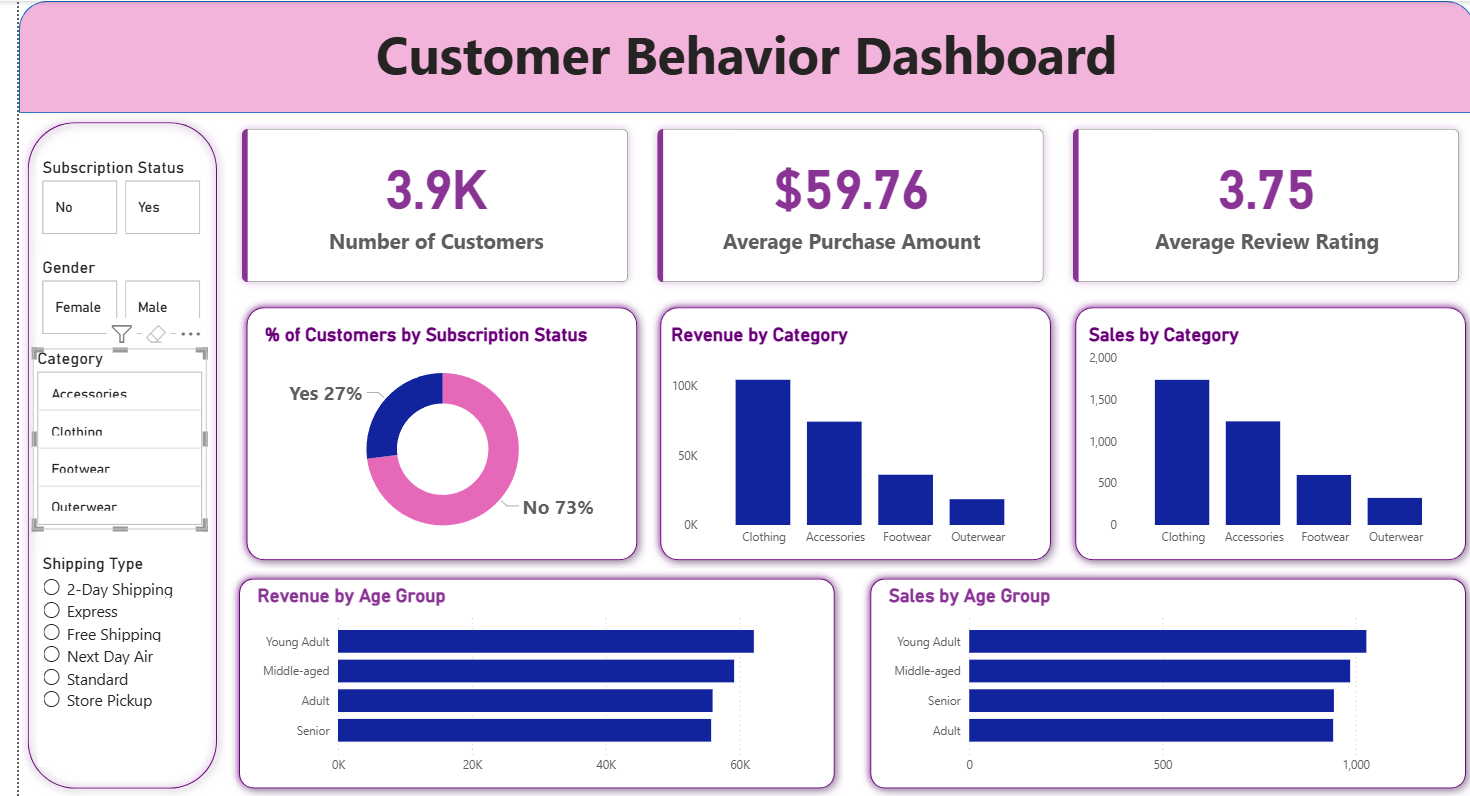

This screenshot's page, from the dashboard's own definition file:
{"tool":"powerbi","page":{"name":"Page 1","canvas":[1500,820],"ordinal":0},"visuals":[{"type":"cardVisual","fields":{"Data":["public customer.Number of Customers","public customer.Average Purchase Amount","public customer.Average Review Rating"]},"box":[213.9,115.8,1286.3,190.8],"z":2000},{"type":"shape","box":[218.3,585.6,631.7,234.2],"z":2500,"group":"g1"},{"type":"shape","box":[0,0,1499.4,115.3],"z":3000},{"type":"textbox","box":[0,12.4,1499.4,102.9],"z":4000},{"type":"shape","box":[225.4,307,420.5,278.6],"z":5000},{"type":"donutChart","title":"% of Customers by Subscription Status","fields":{"Category":["public customer.subscription_status"],"Y":["CountNonNull(public customer.customer_id)"]},"box":[248.4,331.8,376.2,237.8],"z":6000},{"type":"shape","box":[1078.9,307,420.5,278.6],"z":7000},{"type":"shape","box":[652.1,307,420.5,278.6],"z":8000},{"type":"clusteredColumnChart","title":"Revenue by Category","fields":{"Y":["Sum(public customer.purchase_amount)"],"Category":["public customer.category"]},"box":[667.2,331.8,385.1,237.8],"z":9000},{"type":"clusteredColumnChart","title":"Sales by Category","fields":{"Y":["CountNonNull(public customer.customer_id)"],"Category":["public customer.category"]},"box":[1096.6,331.8,385.1,237.8],"z":10000},{"type":"shape","box":[0,115.3,212.9,704.5],"z":11000},{"type":"advancedSlicerVisual","fields":{"Values":["public customer.subscription_status"]},"box":[19.5,161.5,173.9,85.2],"z":12000},{"type":"advancedSlicerVisual","fields":{"Values":["public customer.gender"]},"box":[19.5,264.4,173.9,85.2],"z":13000},{"type":"advancedSlicerVisual","fields":{"Values":["public customer.category"]},"box":[14.2,358.4,179.2,186.3],"z":14000},{"type":"listSlicer","fields":{"Values":["public customer.shipping_type"]},"box":[19.5,569.6,168.6,220],"z":15000},{"type":"shape","box":[867.7,585.6,631.7,234.2],"z":16000},{"type":"clusteredBarChart","title":"Sales by Age Group","fields":{"Y":["CountNonNull(public customer.customer_id)"],"Category":["public customer.age_group"]},"box":[890.8,601.5,585.6,204.1],"z":17000},{"type":"clusteredBarChart","title":"Revenue by Age Group","fields":{"Y":["Sum(public customer.purchase_amount)"],"Category":["public customer.age_group"]},"box":[241.4,601.6,585.6,204.1],"z":17500,"group":"g1"},{"type":"group","id":"g1","title":"Group 1","box":[218.3,585.6,631.7,234.2],"z":17501}]}

Visuals, with their boxes in screenshot pixels (x1, y1, x2, y2), scaled from the page's 1500x820 canvas onto the 1470x796 screenshot:
cardVisual - public customer.Number of Customers x public customer.Average Purchase Amount: <bbox>210, 112, 1469, 298</bbox>
shape: <bbox>214, 568, 833, 795</bbox>
shape: <bbox>0, 0, 1469, 112</bbox>
textbox: <bbox>0, 12, 1469, 112</bbox>
shape: <bbox>221, 298, 633, 568</bbox>
"% of Customers by Subscription Status" donutChart: <bbox>243, 322, 612, 553</bbox>
shape: <bbox>1057, 298, 1469, 568</bbox>
shape: <bbox>639, 298, 1051, 568</bbox>
"Revenue by Category" clusteredColumnChart: <bbox>654, 322, 1031, 553</bbox>
"Sales by Category" clusteredColumnChart: <bbox>1075, 322, 1452, 553</bbox>
shape: <bbox>0, 112, 209, 795</bbox>
advancedSlicerVisual - public customer.subscription_status: <bbox>19, 157, 190, 239</bbox>
advancedSlicerVisual - public customer.gender: <bbox>19, 257, 190, 339</bbox>
advancedSlicerVisual - public customer.category: <bbox>14, 348, 190, 529</bbox>
listSlicer - public customer.shipping_type: <bbox>19, 553, 184, 766</bbox>
shape: <bbox>850, 568, 1469, 795</bbox>
"Sales by Age Group" clusteredBarChart: <bbox>873, 584, 1447, 782</bbox>
"Revenue by Age Group" clusteredBarChart: <bbox>237, 584, 810, 782</bbox>
"Group 1" group: <bbox>214, 568, 833, 795</bbox>
